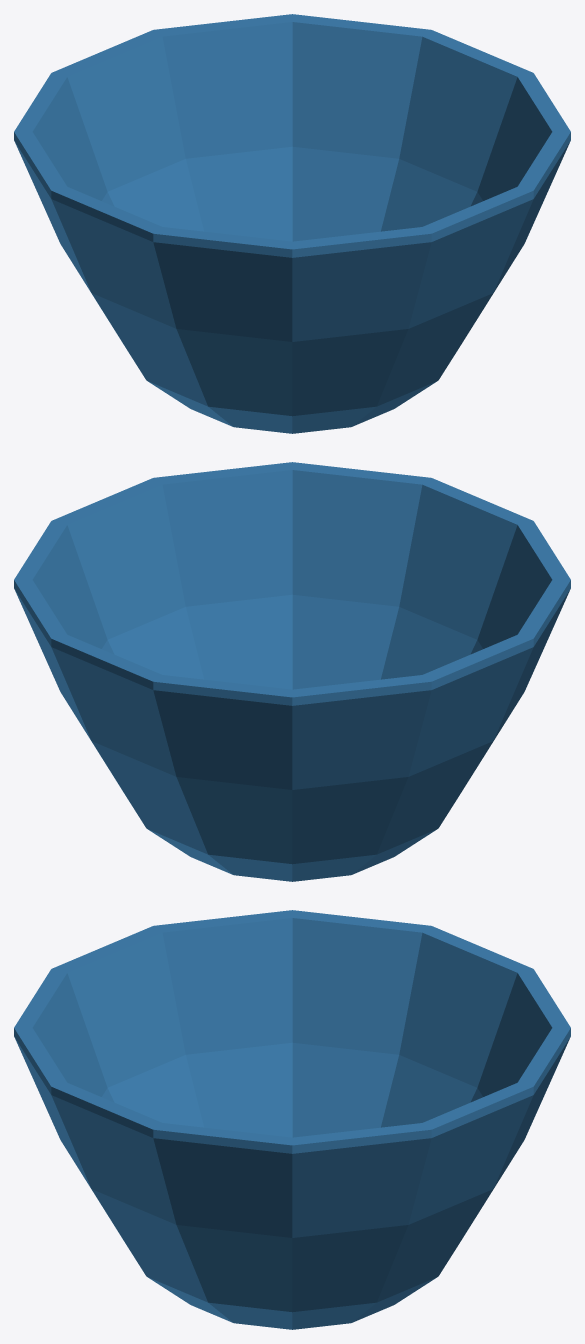
Rendered from bowl.glb.
The picture shows the model from 3 angles, top to bottom: view 1: azimuth 30°, elevation 25°; view 2: azimuth 150°, elevation 25°; view 3: azimuth 270°, elevation 25°; orthographic projection.
Parts seen in each view (by area): view 1: Broad faceted blue bowl; view 2: Broad faceted blue bowl; view 3: Broad faceted blue bowl.
Part boxes in pixels (bbox=[...]): Broad faceted blue bowl: bbox=[14, 14, 570, 433]; Broad faceted blue bowl: bbox=[14, 462, 570, 881]; Broad faceted blue bowl: bbox=[14, 910, 570, 1329].
Size of the model in its own units: 0.36 by 0.18 by 0.36.
